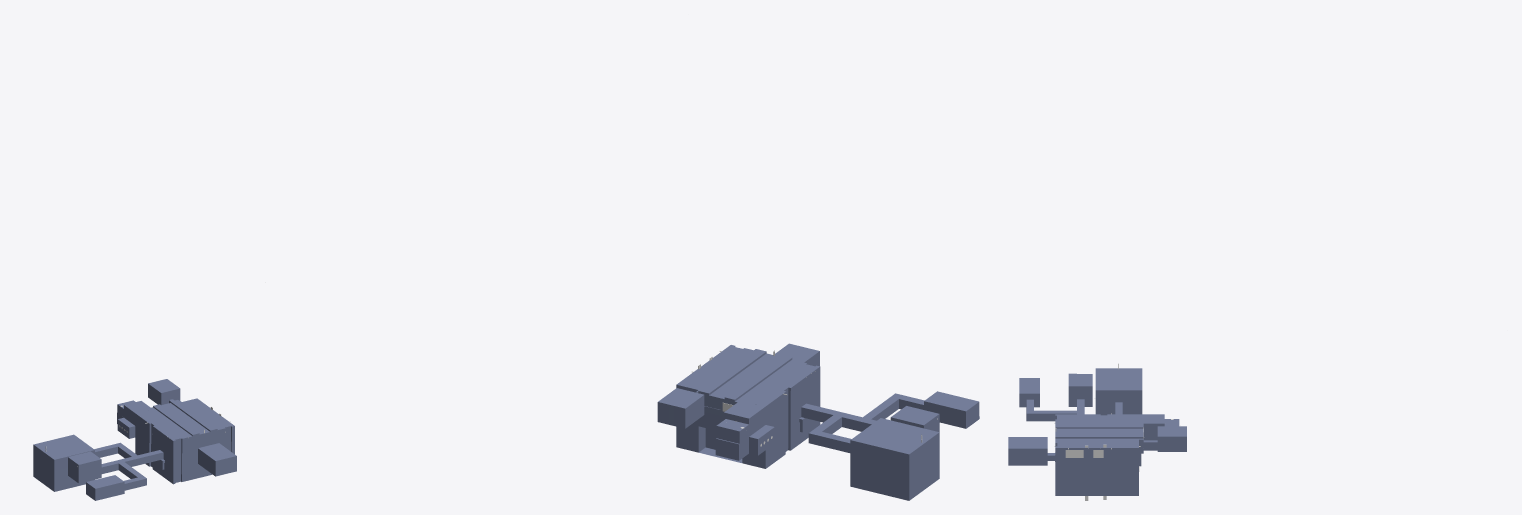
Rendered from house.fbx.
3 views of the same model, side by side, from view 1: azimuth 30°, elevation 25°; view 2: azimuth 150°, elevation 25°; view 3: azimuth 270°, elevation 25° (orthographic). The views are drawn at different scales.
Visible parts, largest first — view 1: 立方體; view 2: 立方體; view 3: 立方體.
Boxes of the visible parts, <box> form: 立方體: <box>33,379,236,500</box>; 立方體: <box>657,343,979,500</box>; 立方體: <box>1008,368,1186,495</box>.
Bounding box in the file's own units: 4171 × 5555 × 5774.
